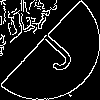J: (25, 25, 78, 75)
